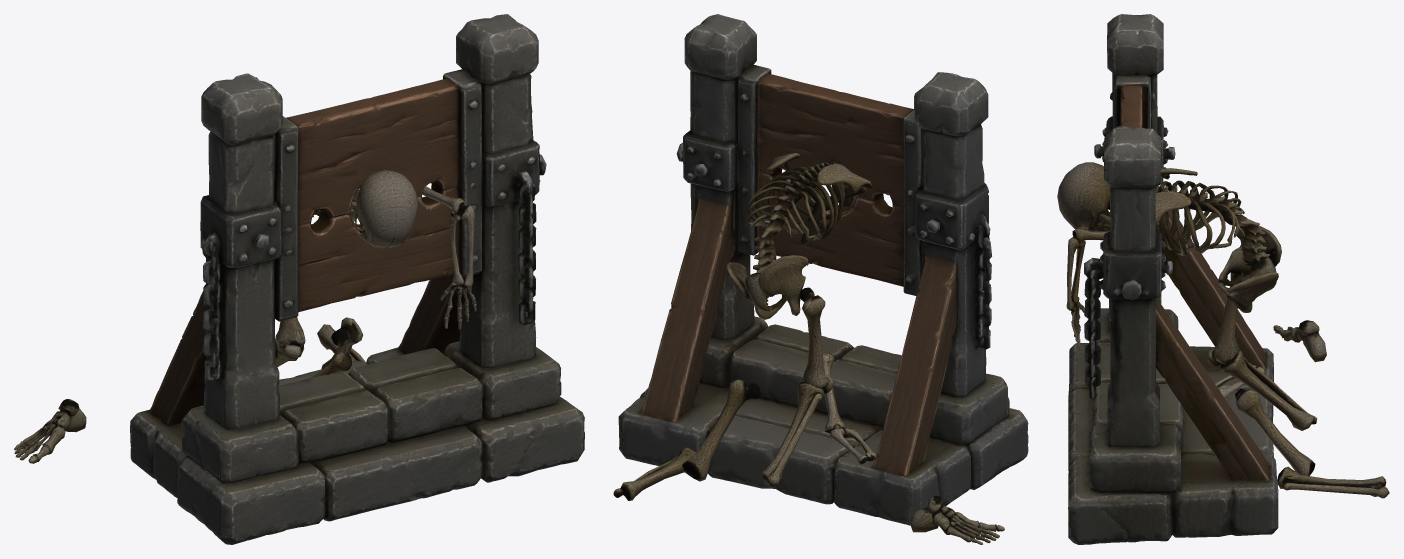
The model's file is Stockade_Skeleton.fbx.
3 renders of one model, left to right at view 1: azimuth 30°, elevation 25°; view 2: azimuth 150°, elevation 25°; view 3: azimuth 270°, elevation 25°, orthographic. The views are drawn at different scales.
Parts seen in each view (by area): view 1: Stockade_Skeleton; view 2: Stockade_Skeleton; view 3: Stockade_Skeleton.
Part boxes in pixels (<box>): Stockade_Skeleton: <box>14,14,584,544</box>; Stockade_Skeleton: <box>613,14,1028,544</box>; Stockade_Skeleton: <box>1057,14,1389,544</box>.
Size of the model in its own units: 189 by 171 by 133.
Materials: 2 (2 with a texture image).
